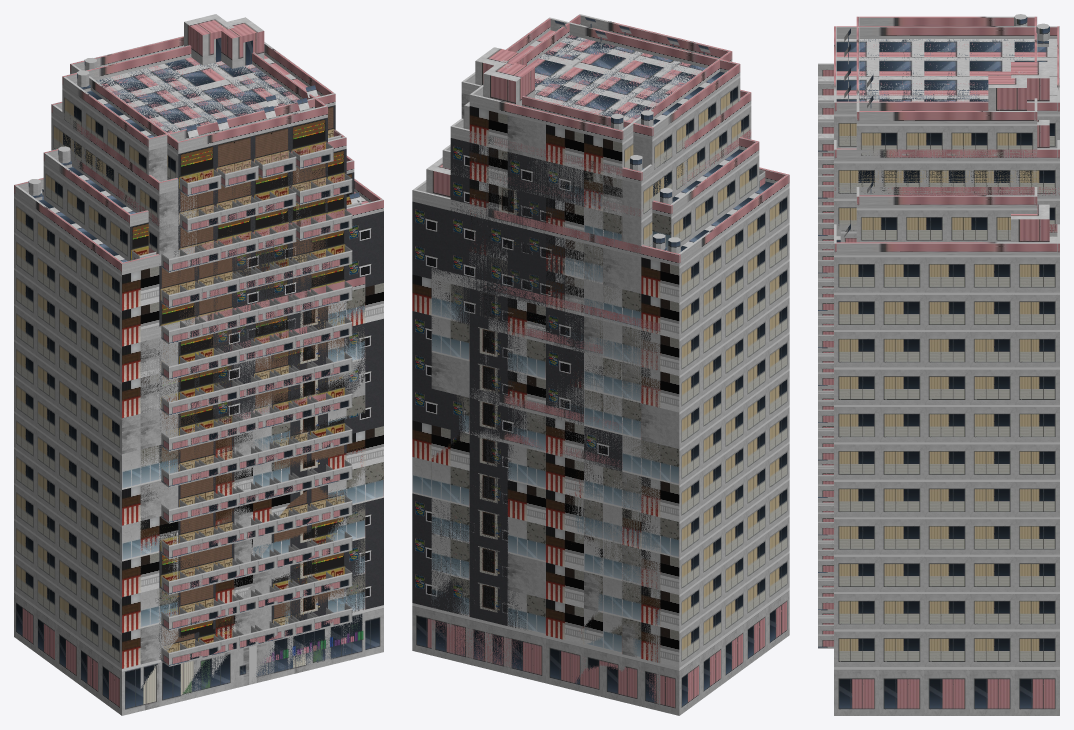
3 renders of one model, left to right at view 1: azimuth 30°, elevation 25°; view 2: azimuth 150°, elevation 25°; view 3: azimuth 270°, elevation 25°, orthographic. The views are drawn at different scales.
Visible parts, largest first — view 1: Modern_7x5_f11_v1, Modern_4x5_f14_v1, Modern_5x5_f11_v1, Modern_4x5_f9_v1, Modern_3x5_f8_v0, Modern_6x5_f9_v1, Modern_5x4_f14_v1, Modern_5x5_f13_v1, Modern_2x5_f6_v0, Modern_6x4_f12_v0, Modern_4x5_f6_v0, Modern_5x5_f12_v0 (+1 smaller); view 2: Modern_7x5_f11_v1, Modern_4x5_f14_v1, Modern_5x5_f11_v1, Modern_4x5_f9_v1, Modern_6x5_f9_v1, Modern_2x5_f6_v0, Modern_5x4_f14_v1, Modern_5x5_f13_v1, Modern_3x5_f8_v0, Modern_6x4_f12_v0, Modern_4x5_f5_v1, Modern_4x5_f6_v0 (+2 smaller); view 3: Modern_7x5_f11_v1, Modern_4x5_f14_v1, Modern_5x4_f14_v1, Modern_5x5_f13_v1, Modern_6x4_f12_v0, Modern_5x5_f11_v1, Modern_5x4_f12_v0, Modern_4x5_f6_v0, Modern_6x5_f9_v1, Modern_5x5_f12_v0.
Boxes of the visible parts, box(x1,y1,x2,y2) form: Modern_7x5_f11_v1: box(14, 177, 383, 715); Modern_4x5_f14_v1: box(70, 14, 333, 436); Modern_5x5_f11_v1: box(148, 209, 352, 706); Modern_4x5_f9_v1: box(178, 285, 327, 701); Modern_3x5_f8_v0: box(197, 326, 314, 697); Modern_6x5_f9_v1: box(140, 276, 365, 702); Modern_5x4_f14_v1: box(62, 17, 341, 191); Modern_5x5_f13_v1: box(51, 101, 352, 648); Modern_2x5_f6_v0: box(215, 408, 290, 684); Modern_6x4_f12_v0: box(43, 146, 360, 261); Modern_4x5_f6_v0: box(178, 393, 333, 651); Modern_5x5_f12_v0: box(59, 146, 344, 272); Modern_7x5_f11_v1: box(412, 157, 789, 715); Modern_4x5_f14_v1: box(469, 14, 732, 323); Modern_5x5_f11_v1: box(450, 199, 652, 706); Modern_4x5_f9_v1: box(469, 277, 622, 673); Modern_6x5_f9_v1: box(431, 268, 660, 710); Modern_2x5_f6_v0: box(507, 397, 583, 689); Modern_5x4_f14_v1: box(461, 17, 740, 201); Modern_5x5_f13_v1: box(450, 89, 751, 256); Modern_3x5_f8_v0: box(488, 319, 602, 697); Modern_6x4_f12_v0: box(442, 137, 765, 250); Modern_4x5_f5_v1: box(470, 428, 622, 470); Modern_4x5_f6_v0: box(470, 388, 621, 429); Modern_7x5_f11_v1: box(818, 204, 1059, 715); Modern_4x5_f14_v1: box(818, 23, 1059, 297); Modern_5x4_f14_v1: box(840, 14, 1037, 194); Modern_5x5_f13_v1: box(818, 120, 1059, 236); Modern_6x4_f12_v0: box(840, 181, 1037, 242); Modern_5x5_f11_v1: box(818, 224, 1057, 648); Modern_5x4_f12_v0: box(859, 187, 1034, 195); Modern_4x5_f6_v0: box(818, 424, 833, 634); Modern_6x5_f9_v1: box(818, 312, 833, 409); Modern_5x5_f12_v0: box(834, 187, 1059, 198).
Size of the model in its own units: 24.5 by 51.7 by 18.75.
Materials: 1 (1 with a texture image).
